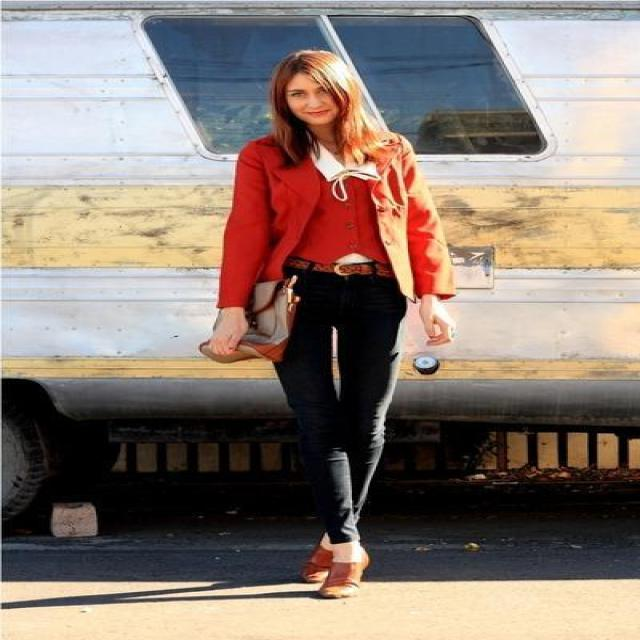bag: (234, 276, 299, 363)
jacket: (218, 130, 452, 307)
pants: (274, 271, 412, 547)
shoe: (304, 534, 363, 598)
